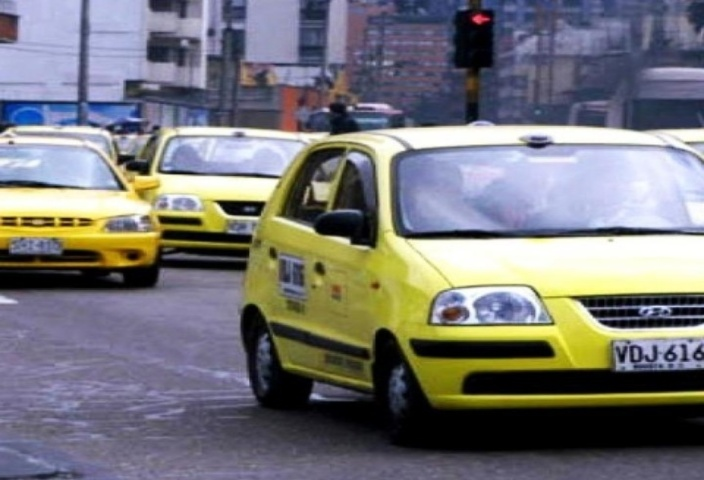taxi: (262, 125, 704, 416), (146, 115, 349, 261), (1, 140, 168, 298)
